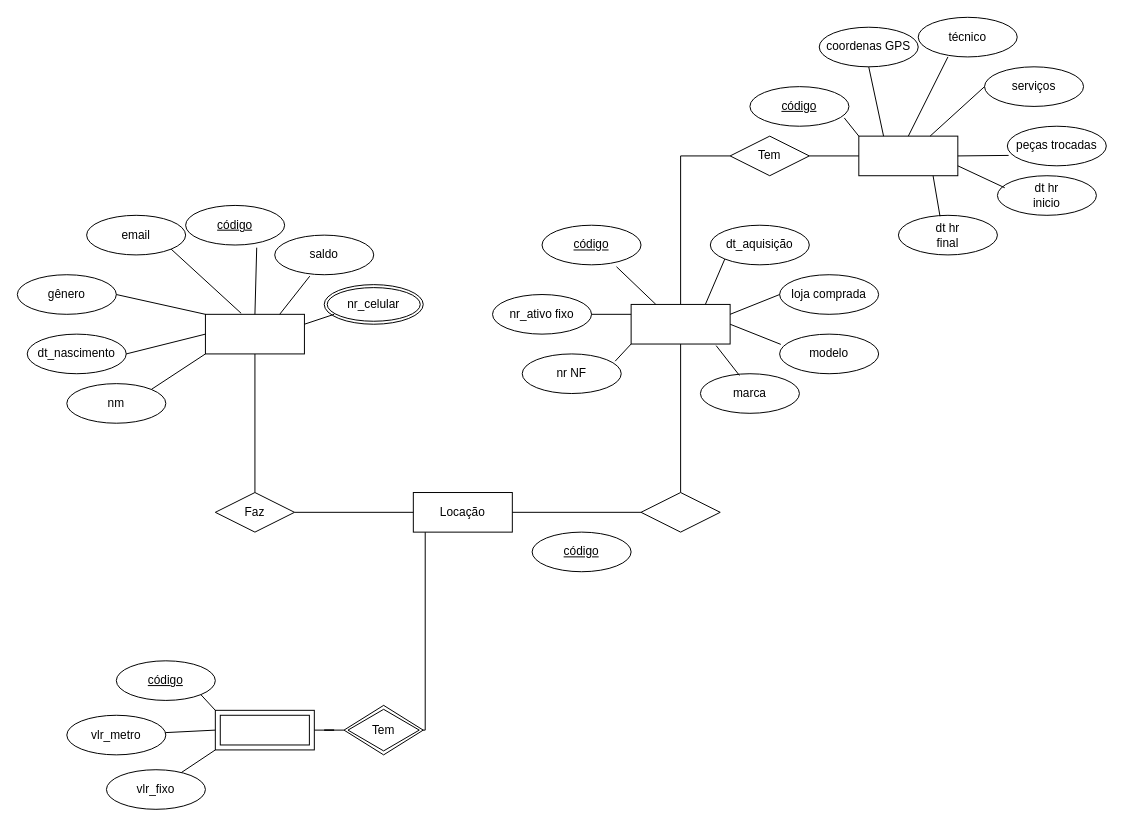
Image size: 1124x827. Some labels were removed from this diagram. Each missing label, with the centre of its shape:
"Bicicleta" belongs at point (680, 323).
"Cliente" belongs at point (254, 333).
"está" belongs at point (680, 512).
"Locação Tb-Preço" belongs at point (264, 729).
"Revisão" belongs at point (908, 155).
